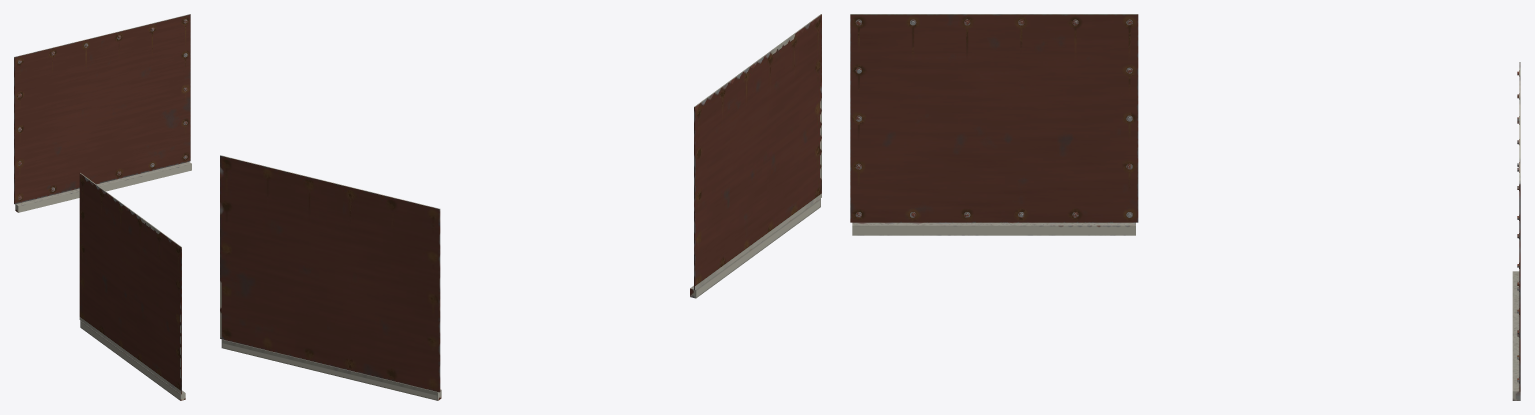
Rendered from same_seed_sealed_room_plates.glb.
3 views of the same model, side by side, from view 1: azimuth 30°, elevation 25°; view 2: azimuth 150°, elevation 25°; view 3: azimuth 270°, elevation 25° (orthographic). The views are drawn at different scales.
Parts seen in each view (by area): view 1: window_back_plate_low, window_left_plate_low, window_back_sill_low, window_left_sill_low, window_back_bolts_low; view 2: window_back_plate_low, window_left_plate_low, window_back_sill_low, window_left_sill_low; view 3: window_left_plate_low, window_left_sill_low, window_back_sill_low, window_left_bolts_low, window_back_plate_low.
Boxes of the visible parts, bbox=[...] form: window_back_plate_low: bbox=[14, 14, 190, 204]; window_left_plate_low: bbox=[79, 173, 181, 394]; window_back_sill_low: bbox=[15, 162, 191, 212]; window_left_sill_low: bbox=[80, 321, 185, 400]; window_back_bolts_low: bbox=[18, 19, 187, 199]; window_back_plate_low: bbox=[220, 155, 440, 392]; window_left_plate_low: bbox=[694, 14, 821, 290]; window_back_sill_low: bbox=[221, 339, 441, 400]; window_left_sill_low: bbox=[690, 198, 820, 298]; window_left_plate_low: bbox=[850, 14, 1138, 222]; window_left_sill_low: bbox=[852, 222, 1135, 235]; window_back_sill_low: bbox=[1512, 271, 1520, 400]; window_left_bolts_low: bbox=[855, 19, 1132, 217]; window_back_plate_low: bbox=[1519, 62, 1520, 391].
Size of the model in its own units: 1.87 by 1.12 by 3.12.
Materials: 3 (3 with a texture image).
